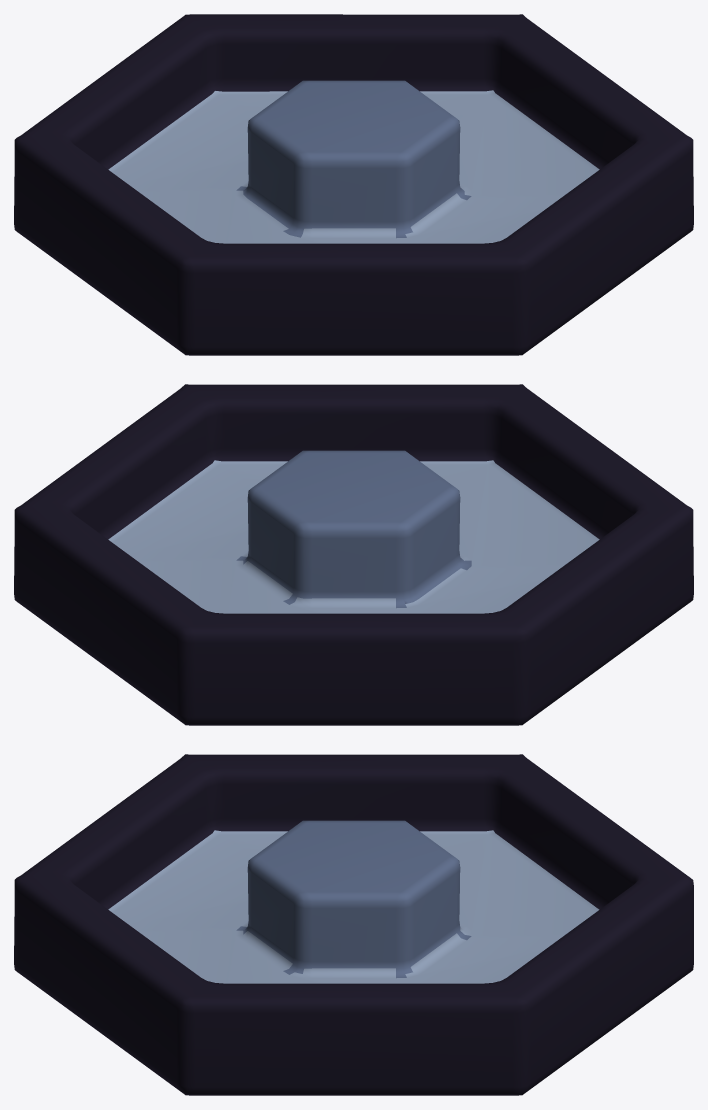
Rendered from wheel.glb.
3 renders of one model, top to bottom at view 1: azimuth 30°, elevation 25°; view 2: azimuth 150°, elevation 25°; view 3: azimuth 270°, elevation 25°, orthographic.
Visible parts, largest first — view 1: Wheel; view 2: Wheel; view 3: Wheel.
Part boxes in pixels (x1,y1,x2,y2): Wheel: (14, 14, 693, 355); Wheel: (14, 384, 693, 725); Wheel: (14, 754, 693, 1095).
Bounding box in the file's own units: 0.4778 × 0.1027 × 0.5479.
Materials: 1 (1 with a texture image).
